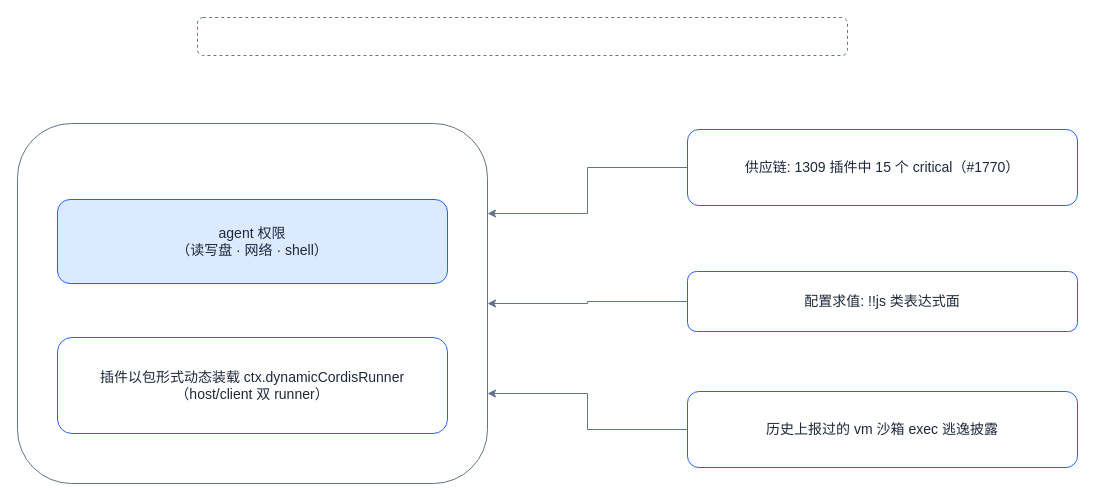
Some shapes in this 1095 by 501 pixel diagram are drawn without their labels. Each missing label, with the box of its shape:
你的机器: (16, 122, 488, 484)
无进程隔离 · 信任边界靠人守（公开分析口径）: (196, 16, 848, 56)
